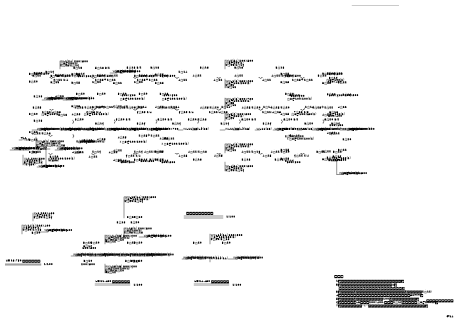wall: (71, 215, 75, 217), (49, 145, 53, 147), (380, 148, 384, 150), (335, 199, 339, 201), (99, 49, 103, 51), (267, 31, 271, 33), (163, 56, 167, 58), (28, 197, 31, 199), (28, 234, 31, 236), (33, 189, 36, 191), (33, 217, 36, 219), (33, 244, 36, 246), (35, 243, 38, 245), (42, 179, 45, 181), (39, 179, 42, 181), (37, 179, 40, 181), (78, 153, 81, 155), (77, 206, 80, 208), (77, 233, 80, 235), (83, 165, 86, 167), (89, 166, 92, 168), (82, 220, 85, 222), (85, 165, 88, 167), (82, 243, 85, 245), (84, 240, 87, 242), (74, 215, 77, 217), (69, 215, 72, 217), (126, 205, 129, 207), (131, 170, 134, 172), (131, 220, 134, 222), (133, 165, 136, 167), (136, 218, 139, 220), (123, 179, 126, 181), (120, 179, 123, 181), (118, 179, 121, 181), (219, 179, 222, 181), (267, 179, 270, 181), (374, 146, 377, 148), (368, 154, 371, 156), (368, 196, 371, 198), (368, 232, 371, 234), (374, 175, 377, 177), (376, 174, 379, 176), (374, 219, 377, 221), (376, 218, 379, 220), (364, 179, 367, 181), (362, 179, 365, 181), (359, 179, 362, 181), (81, 153, 84, 155), (120, 153, 123, 155), (162, 153, 165, 155), (213, 153, 216, 155), (275, 153, 278, 155), (309, 153, 312, 155), (362, 153, 365, 155), (381, 153, 384, 155), (52, 148, 55, 150), (97, 148, 100, 150), (140, 149, 143, 151), (202, 149, 205, 151), (243, 149, 246, 151), (299, 149, 302, 151), (336, 149, 339, 151), (256, 157, 259, 159), (256, 159, 259, 161), (256, 162, 259, 164), (387, 155, 390, 157), (387, 205, 390, 207), (392, 167, 395, 169), (392, 219, 395, 221), (394, 218, 397, 220), (402, 179, 405, 181), (397, 179, 400, 181), (395, 179, 398, 181), (81, 204, 84, 206), (129, 204, 132, 206), (178, 204, 181, 206), (226, 204, 229, 206), (275, 204, 278, 206), (309, 204, 312, 206), (357, 204, 360, 206), (43, 199, 46, 201), (42, 196, 45, 198), (153, 199, 156, 201), (202, 199, 205, 201), (237, 199, 240, 201), (299, 199, 302, 201), (333, 196, 336, 198), (377, 199, 380, 201), (374, 196, 377, 198), (256, 209, 259, 211), (256, 211, 259, 213), (256, 207, 259, 209), (256, 214, 259, 216), (66, 241, 69, 243), (121, 241, 124, 243), (167, 241, 170, 243), (218, 241, 221, 243), (266, 241, 269, 243), (309, 241, 312, 243), (363, 241, 366, 243), (382, 243, 385, 245), (56, 236, 59, 238), (104, 236, 107, 238), (153, 236, 156, 238), (242, 236, 245, 238), (299, 236, 302, 238), (333, 236, 336, 238), (376, 238, 379, 240), (373, 236, 376, 238), (256, 227, 259, 229), (256, 232, 259, 234), (256, 234, 259, 236), (62, 196, 65, 198), (71, 179, 74, 181), (69, 179, 72, 181), (66, 179, 69, 181), (31, 174, 34, 176), (36, 158, 39, 160), (36, 163, 39, 165), (36, 165, 39, 167), (150, 204, 153, 206), (155, 144, 158, 146), (157, 142, 160, 144), (155, 172, 158, 174), (155, 220, 158, 222), (155, 241, 158, 243), (157, 240, 160, 242), (146, 179, 149, 181), (144, 179, 147, 181), (141, 179, 144, 181), (168, 144, 171, 146), (218, 144, 221, 146), (275, 144, 278, 146), (313, 144, 316, 146), (256, 132, 259, 134), (256, 134, 259, 136), (256, 137, 259, 139), (79, 250, 82, 252), (105, 250, 108, 252), (141, 250, 144, 252), (47, 245, 50, 247), (256, 253, 259, 255), (256, 255, 259, 257), (256, 258, 259, 260), (53, 233, 56, 235), (58, 217, 61, 219), (60, 240, 63, 242), (50, 215, 53, 217), (48, 215, 51, 217), (45, 215, 48, 217), (101, 205, 104, 207), (107, 168, 110, 170), (107, 220, 110, 222), (107, 241, 110, 243), (109, 240, 112, 242), (98, 179, 101, 181), (95, 179, 98, 181), (93, 179, 96, 181), (207, 179, 210, 181), (292, 179, 295, 181), (18, 169, 21, 171), (81, 190, 84, 192), (177, 190, 180, 192), (212, 190, 215, 192), (275, 190, 278, 192), (323, 190, 326, 192), (105, 186, 108, 188), (153, 186, 156, 188), (194, 186, 197, 188), (250, 186, 253, 188), (299, 186, 302, 188), (348, 186, 351, 188), (256, 192, 259, 194), (256, 194, 259, 196), (256, 196, 259, 198), (393, 129, 396, 131), (391, 129, 394, 131), (388, 129, 391, 131), (256, 230, 259, 232), (94, 199, 97, 201), (91, 196, 94, 198), (36, 160, 39, 162), (256, 155, 259, 157), (381, 146, 384, 148), (376, 143, 379, 145), (44, 179, 47, 181), (131, 143, 134, 145), (133, 142, 136, 144), (135, 141, 138, 143), (133, 214, 136, 216), (126, 155, 129, 157), (126, 232, 129, 234), (174, 205, 177, 207), (180, 168, 183, 170), (184, 168, 187, 170), (180, 220, 183, 222), (182, 162, 185, 164), (184, 218, 187, 220), (180, 241, 183, 243), (182, 240, 185, 242), (172, 179, 175, 181), (169, 179, 172, 181), (167, 179, 170, 181), (180, 143, 183, 145), (182, 141, 185, 143), (182, 214, 185, 216), (174, 153, 177, 155), (174, 232, 177, 234), (320, 197, 323, 199), (325, 171, 328, 173), (330, 172, 333, 174), (325, 220, 328, 222), (328, 168, 331, 170), (330, 218, 333, 220), (325, 241, 328, 243), (328, 240, 331, 242), (318, 179, 321, 181), (315, 179, 318, 181), (313, 179, 316, 181), (325, 143, 328, 145), (327, 141, 330, 143), (328, 214, 331, 216), (320, 155, 323, 157), (320, 233, 323, 235), (366, 179, 369, 181), (374, 243, 377, 245), (376, 243, 379, 245), (399, 179, 402, 181), (52, 215, 55, 217), (100, 179, 103, 181), (150, 144, 153, 146), (341, 179, 344, 181), (32, 153, 35, 155), (201, 245, 204, 247), (201, 236, 204, 238), (44, 137, 47, 139), (41, 137, 44, 139), (39, 137, 42, 139), (58, 241, 61, 243), (53, 240, 56, 242), (77, 243, 80, 245), (101, 233, 104, 235), (101, 241, 104, 243), (126, 144, 129, 146), (174, 242, 177, 244), (320, 243, 323, 245), (387, 233, 390, 235), (64, 252, 67, 254), (64, 255, 67, 257), (64, 257, 67, 259), (169, 250, 172, 252), (226, 250, 229, 252), (266, 250, 269, 252), (314, 250, 317, 252), (32, 241, 35, 243), (379, 186, 382, 188), (28, 176, 31, 178), (332, 217, 335, 219), (125, 179, 128, 181), (148, 179, 151, 181), (173, 179, 176, 181), (65, 157, 68, 159), (63, 157, 66, 159), (60, 157, 63, 159), (67, 157, 70, 159), (76, 215, 79, 217), (87, 165, 90, 167), (91, 165, 94, 167), (36, 156, 39, 158), (46, 137, 49, 139), (73, 179, 76, 181), (75, 179, 78, 181), (116, 54, 119, 56), (116, 56, 119, 58), (91, 49, 94, 51), (91, 44, 94, 46), (116, 52, 119, 54), (139, 99, 142, 101), (139, 101, 142, 103), (139, 96, 142, 98), (166, 35, 169, 37), (164, 35, 167, 37), (161, 35, 164, 37), (168, 35, 171, 37), (146, 72, 149, 74), (146, 27, 149, 29), (112, 35, 115, 37), (109, 35, 112, 37), (107, 35, 110, 37), (114, 35, 117, 37), (84, 35, 87, 37), (81, 35, 84, 37), (79, 35, 82, 37), (141, 35, 144, 37), (139, 35, 142, 37), (136, 35, 139, 37), (130, 72, 133, 74), (116, 19, 119, 21), (116, 21, 119, 23), (116, 17, 119, 19), (91, 28, 94, 30), (22, 141, 25, 143), (22, 143, 25, 145), (21, 139, 24, 141), (22, 145, 25, 147), (22, 167, 25, 169), (90, 42, 93, 44), (88, 24, 91, 26), (116, 50, 119, 52), (116, 14, 119, 16), (239, 53, 242, 55), (239, 55, 242, 57), (239, 57, 242, 59), (218, 49, 221, 51), (252, 49, 255, 51), (239, 31, 242, 33), (270, 31, 273, 33), (265, 31, 268, 33), (231, 31, 234, 33), (212, 31, 215, 33), (209, 31, 212, 33), (207, 31, 210, 33), (77, 196, 80, 198), (129, 190, 132, 192), (50, 143, 53, 145), (28, 243, 31, 245), (174, 144, 177, 146), (320, 145, 323, 147), (368, 145, 371, 147), (368, 243, 371, 245), (142, 49, 145, 51), (149, 49, 152, 51), (142, 78, 145, 80), (149, 78, 152, 80), (149, 28, 152, 30), (139, 28, 142, 30), (166, 56, 169, 58), (161, 56, 164, 58), (138, 62, 141, 64), (138, 65, 141, 67), (138, 60, 141, 62), (20, 66, 23, 68), (20, 68, 23, 70), (20, 63, 23, 65), (31, 60, 34, 62), (33, 80, 36, 82), (33, 82, 36, 84), (33, 78, 36, 80), (50, 63, 53, 65), (48, 63, 51, 65), (46, 63, 49, 65), (101, 153, 104, 155), (150, 233, 153, 235), (150, 241, 153, 243), (150, 153, 153, 155), (130, 246, 133, 248), (127, 246, 130, 248), (125, 246, 128, 248), (137, 246, 140, 248), (375, 234, 378, 236), (375, 194, 378, 196), (381, 144, 384, 146), (13, 157, 16, 159), (10, 157, 13, 159), (8, 157, 11, 159), (15, 157, 18, 159), (28, 167, 31, 169), (28, 153, 31, 155), (32, 204, 35, 206), (377, 184, 380, 186), (371, 190, 374, 192), (256, 179, 259, 181)
